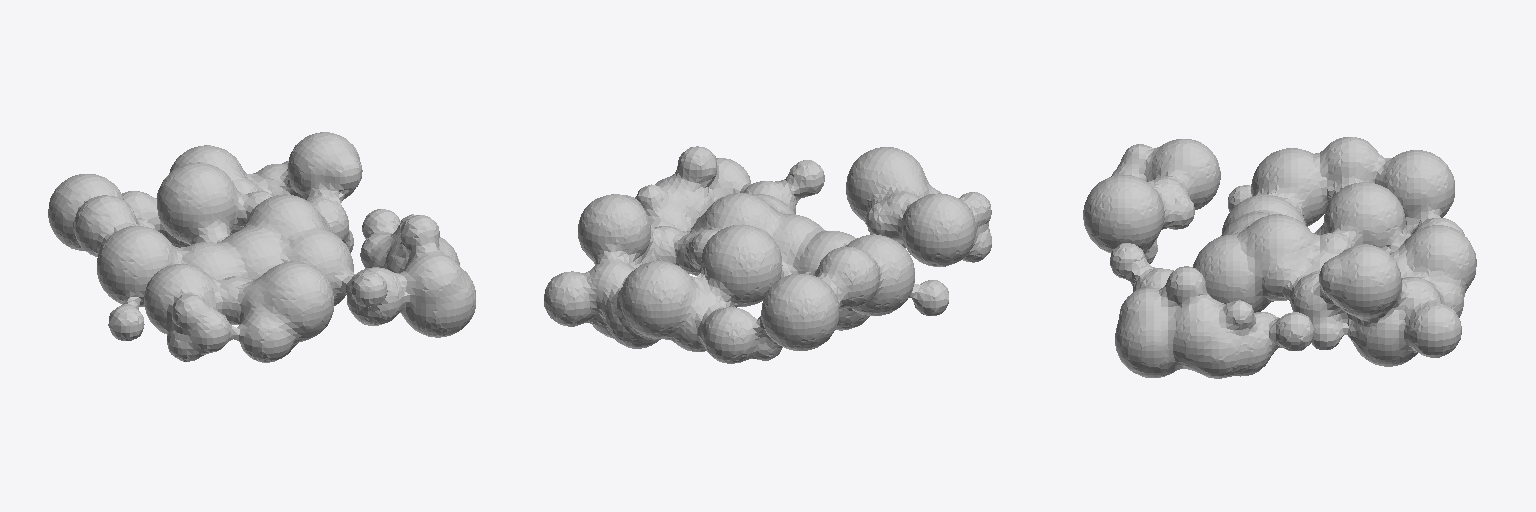
Rendered from cloud-d.obj.
The picture shows the model from 3 angles: view 1: azimuth 30°, elevation 25°; view 2: azimuth 150°, elevation 25°; view 3: azimuth 270°, elevation 25°; orthographic projection.
Parts seen in each view (by area): view 1: Cube.003; view 2: Cube.003; view 3: Cube.003.
Part boxes in pixels (x1,y1,x2,y2): Cube.003: (48, 132, 475, 362); Cube.003: (544, 146, 991, 363); Cube.003: (1083, 137, 1476, 378).
Size of the model in its own units: 7.8 by 2.87 by 8.17.